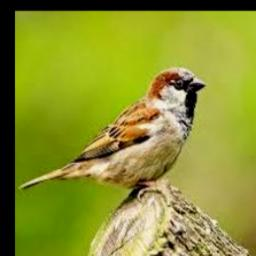Sparrow: (18, 66, 207, 201)
